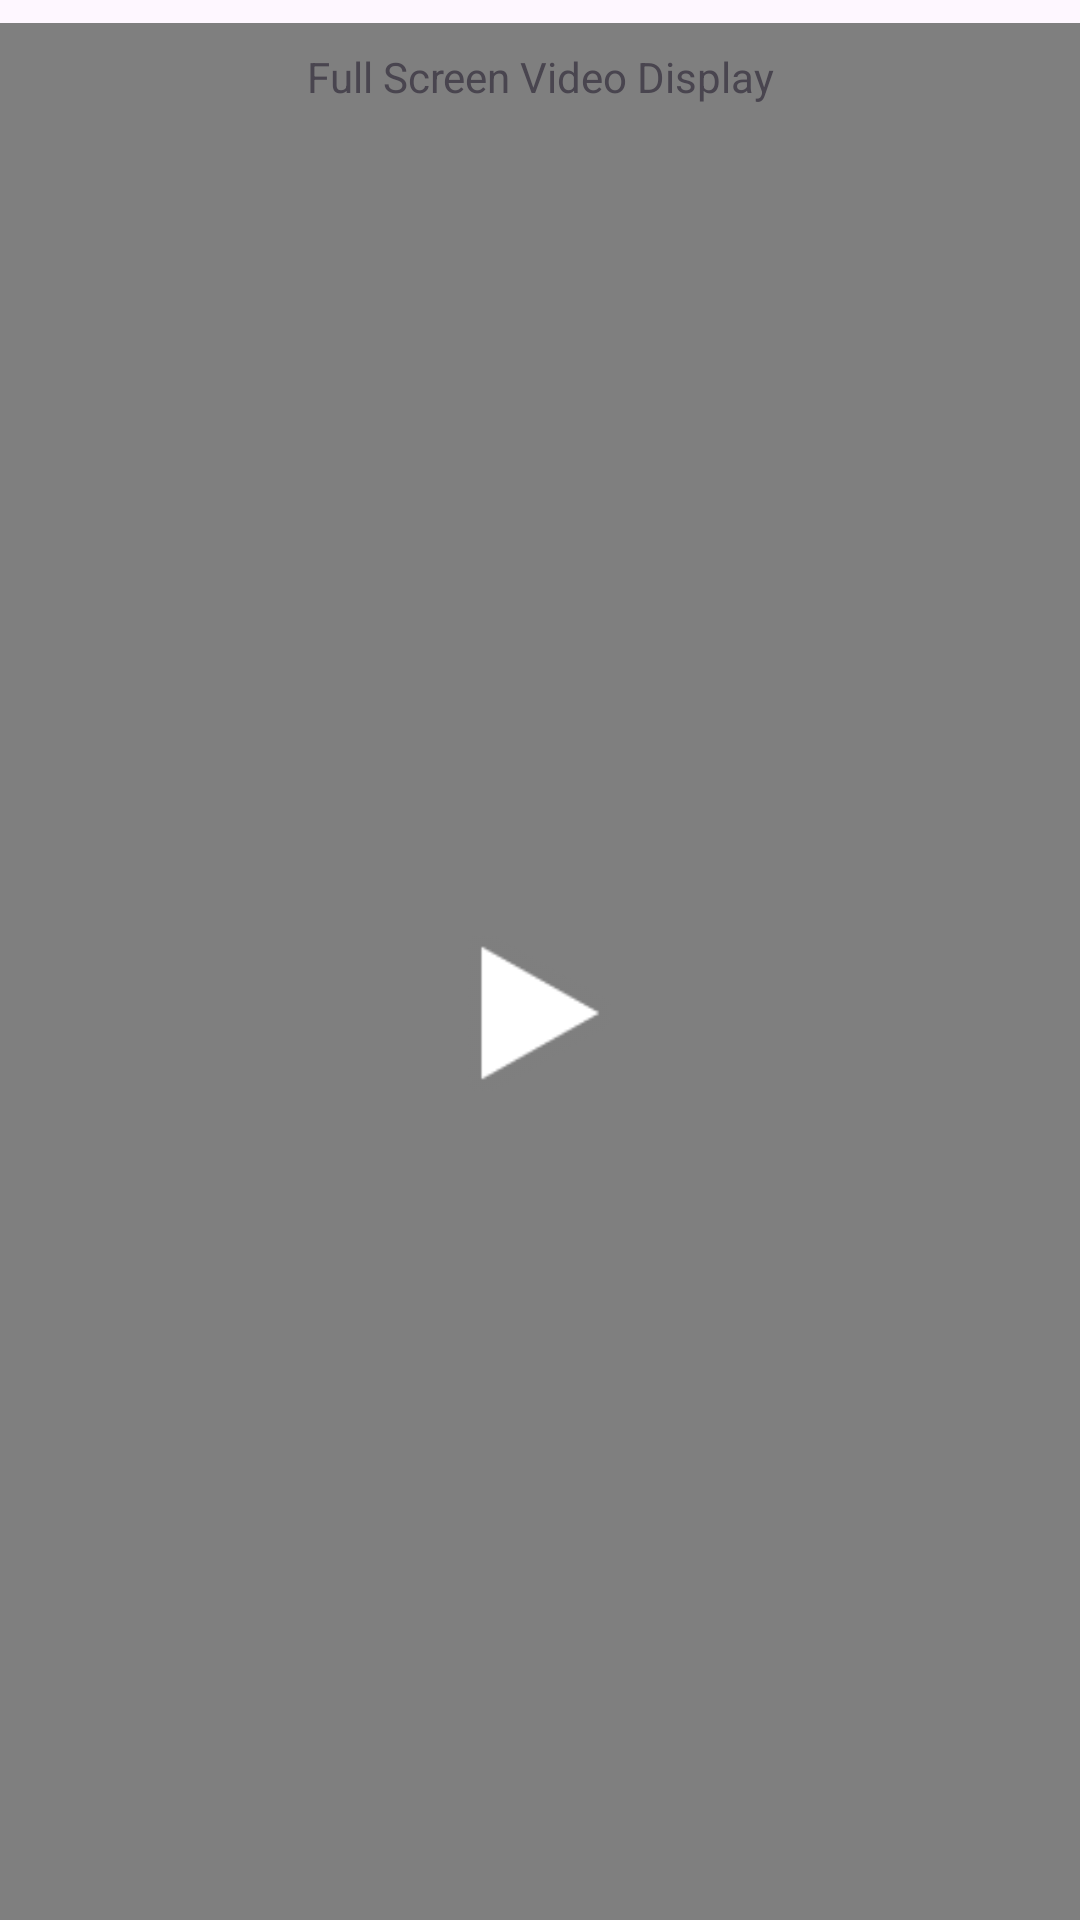

Icons on this 1080w x 1920h Android screen, each with its box as region(x1, y1, x2, y2):
play: region(481, 947, 599, 1079)
